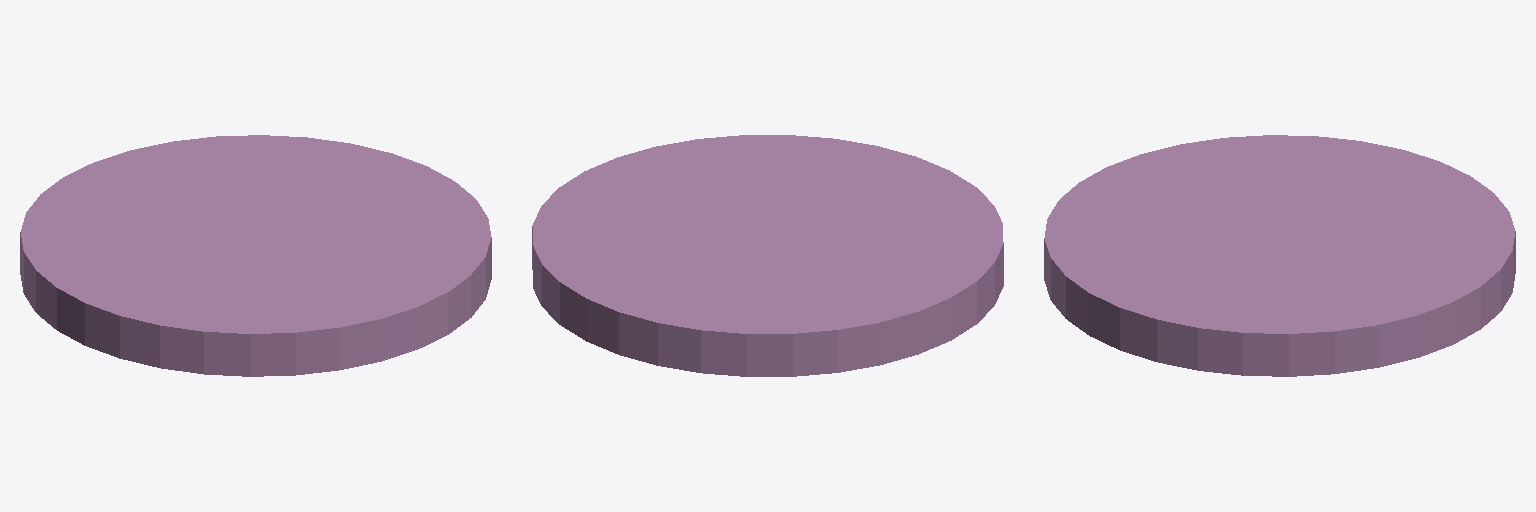
URDF robot description (Interference):
<?xml version="1.0"?>
<robot name="Interference">
  <link name="baseLink">
    <inertial>
      <origin xyz="0.0 0.0 0.0" rpy="0.0 0.0 0.0"/>
      <inertia ixx="0.0" ixy="0.0" ixz="0.0" iyy="0.0" iyz="0.0" izz="0.0"/>
      <mass value="0"/>
    </inertial>
    <visual>
      <origin xyz="0.0 0.0 0.0" rpy="0.0 0.0 -0.5499147044230749"/>
      <geometry>
        <cylinder radius="0.049913599174017075" length="0.01"/>
      </geometry>
      <material name="color">
        <color rgba="0.7180280168601962 0.5738786355734662 0.7152230317801286 1.0"/>
      </material>
    </visual>
  </link>
</robot>

--- Render facts (derived) ---
3 views of the same robot in one strip: view 1: azimuth 30°, elevation 25°; view 2: azimuth 150°, elevation 25°; view 3: azimuth 270°, elevation 25° (orthographic).
Model Interference with 1 links and 0 joints (none), rooted at baseLink, posed every joint at zero.
Links seen in each view (by area): view 1: baseLink; view 2: baseLink; view 3: baseLink.
Boxes of the visible links, x1,y1,x2,y2 form: baseLink: (20, 135, 491, 376); baseLink: (532, 135, 1003, 376); baseLink: (1044, 135, 1515, 376).
Bounding box of the posed robot: 0.0998 × 0.0998 × 0.01 m (x, y, z).
Geometry: primitives only (box / cylinder / sphere), no mesh files.